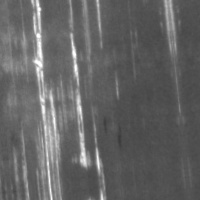scratches: (20, 9, 64, 187), (61, 29, 104, 173)
